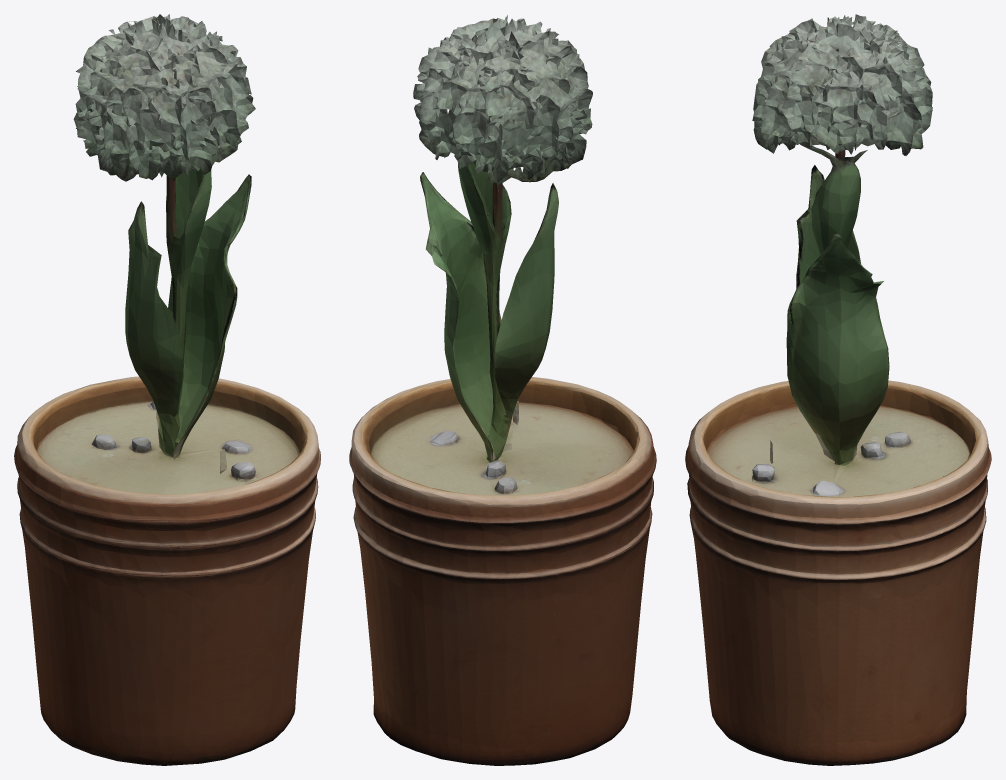
The model's file is PartObjaverseTiny_Five_edit.glb.
3 views of the same model, side by side, from view 1: azimuth 30°, elevation 25°; view 2: azimuth 150°, elevation 25°; view 3: azimuth 270°, elevation 25° (orthographic).
Visible parts, largest first — view 1: world; view 2: world; view 3: world.
Part boxes in pixels (x1,y1,x2,y2): world: (14,14,320,765); world: (349,15,656,765); world: (685,14,991,765).
Size of the model in its own units: 0.3978 by 0.9994 by 0.3969.
1 material, 1 textured.
